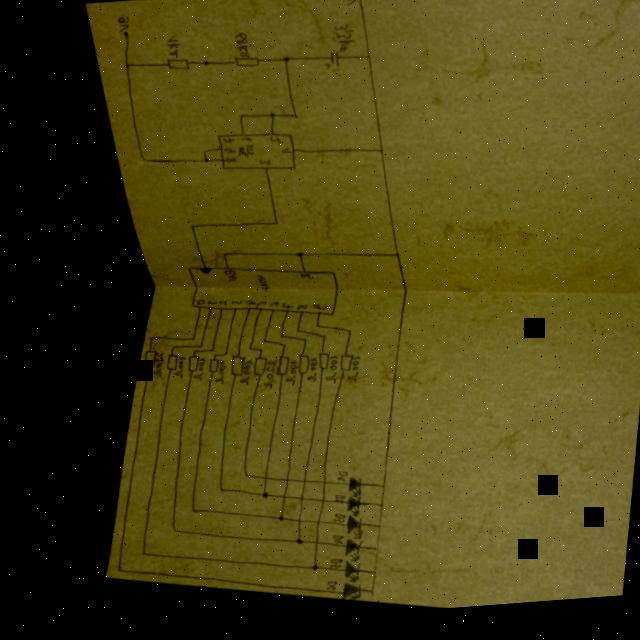capacitor: (319, 54, 340, 75)
crossover: (314, 482, 325, 491), (274, 496, 285, 505), (255, 477, 266, 485), (277, 480, 288, 488), (289, 520, 300, 528), (307, 522, 318, 530), (291, 499, 302, 506), (295, 481, 304, 489), (307, 542, 316, 550), (313, 501, 322, 508)
diode: (337, 541, 360, 567), (339, 519, 361, 545), (334, 585, 359, 606), (337, 564, 356, 589), (341, 480, 359, 503), (340, 499, 358, 522)
junction: (254, 492, 266, 503), (270, 516, 281, 526), (288, 540, 299, 550), (304, 566, 315, 576), (278, 58, 290, 67), (107, 567, 118, 576), (183, 225, 195, 233), (135, 158, 147, 166), (164, 527, 174, 536), (361, 593, 372, 601), (291, 254, 302, 262), (388, 257, 399, 265), (373, 152, 384, 160), (132, 551, 143, 559), (372, 506, 381, 515), (268, 222, 277, 231), (120, 62, 129, 71), (361, 58, 371, 66), (264, 115, 275, 122), (367, 549, 376, 557), (234, 116, 243, 124), (287, 115, 296, 123), (197, 149, 206, 157), (212, 488, 221, 496), (364, 574, 374, 581), (218, 253, 226, 261), (373, 487, 382, 494), (198, 159, 207, 166), (236, 473, 245, 480), (183, 509, 192, 516), (370, 527, 378, 534), (315, 337, 323, 344), (276, 345, 283, 352), (291, 331, 298, 338), (166, 346, 173, 352), (145, 336, 151, 342), (218, 353, 224, 359), (253, 350, 259, 356), (187, 351, 194, 356), (243, 349, 250, 354), (297, 341, 304, 346), (186, 338, 192, 343), (194, 346, 200, 351), (205, 350, 211, 355), (209, 355, 215, 360), (257, 342, 263, 347), (275, 337, 281, 342), (311, 328, 317, 333), (343, 333, 349, 338)
resistor: (223, 354, 242, 380), (160, 58, 189, 75), (228, 58, 259, 73), (136, 349, 153, 372), (311, 353, 328, 376), (333, 356, 350, 379), (291, 356, 307, 380), (247, 358, 263, 381), (160, 353, 175, 375), (271, 358, 286, 380), (181, 356, 195, 376), (202, 359, 216, 377)
terminal: (119, 32, 130, 40), (354, 0, 362, 5)
text: (328, 26, 355, 58), (230, 33, 252, 62), (162, 35, 181, 61), (319, 358, 334, 389), (257, 363, 271, 393), (341, 360, 356, 388), (233, 361, 248, 388), (248, 276, 269, 295), (280, 363, 294, 391), (147, 353, 161, 380), (232, 145, 254, 162), (168, 356, 183, 380), (301, 360, 314, 387), (188, 358, 201, 384), (209, 362, 222, 387), (112, 16, 128, 35), (218, 271, 235, 286), (322, 560, 338, 575), (318, 583, 333, 596), (326, 515, 341, 528), (307, 306, 324, 317), (341, 0, 356, 12), (330, 474, 344, 486), (264, 138, 279, 149), (294, 275, 310, 285), (324, 538, 338, 549), (277, 149, 291, 159), (218, 138, 233, 147), (328, 497, 341, 507), (253, 161, 269, 169), (226, 301, 239, 309), (277, 305, 290, 313), (292, 307, 305, 315), (252, 303, 263, 312), (264, 304, 276, 312), (240, 302, 253, 309), (236, 139, 249, 146), (220, 150, 233, 157), (222, 159, 235, 166), (213, 302, 224, 310), (201, 302, 213, 309), (191, 300, 200, 308)
